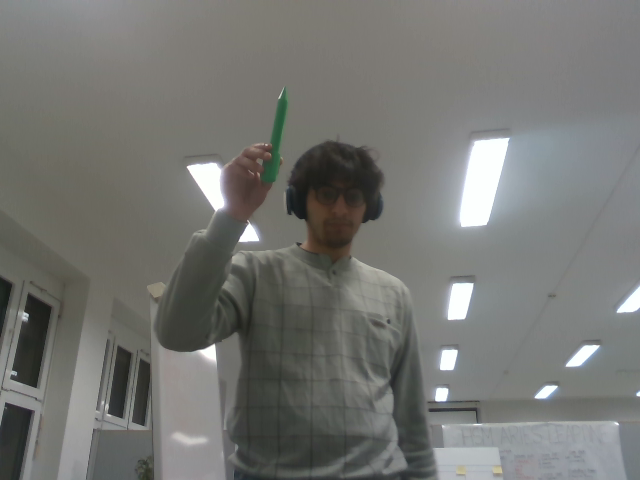Probe: (256, 81, 289, 184)
